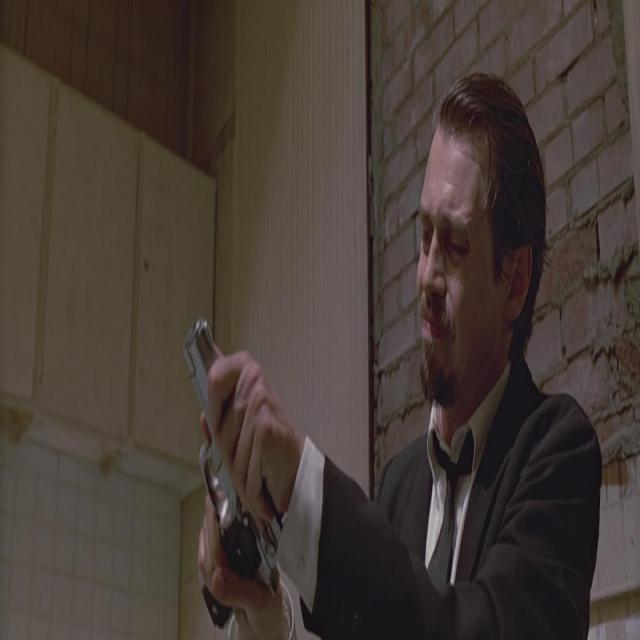gun-knife-thesis - v11 Yolov5 augmented: (166, 312, 291, 640)
